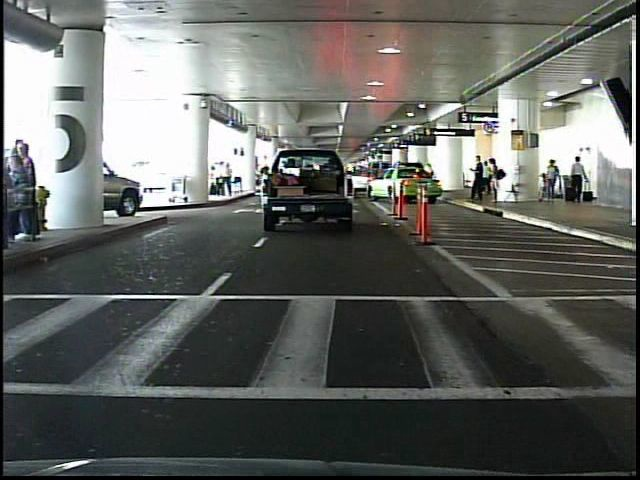person: (470, 154, 487, 206), (488, 157, 505, 206), (483, 159, 491, 198)
